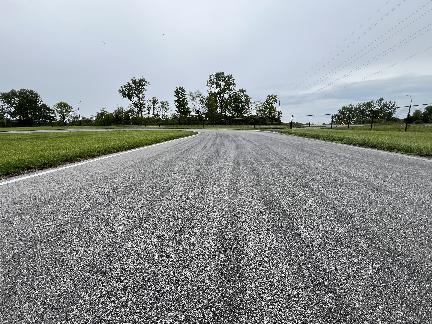Grass: (0, 130, 196, 177), (266, 129, 431, 156)
Lane: (0, 130, 431, 323)
